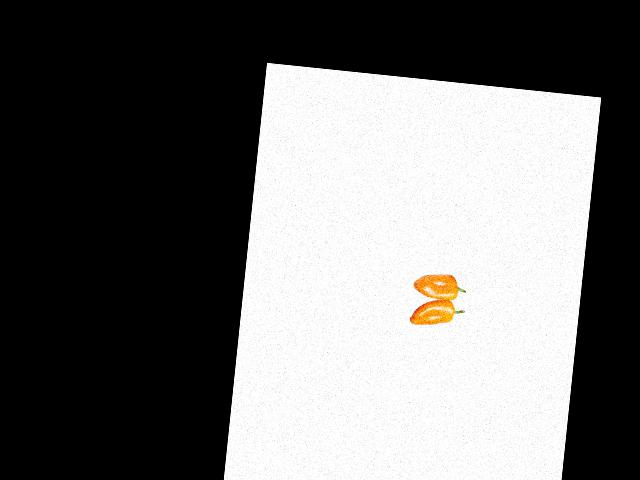bell_pepper: (401, 264, 469, 303)
